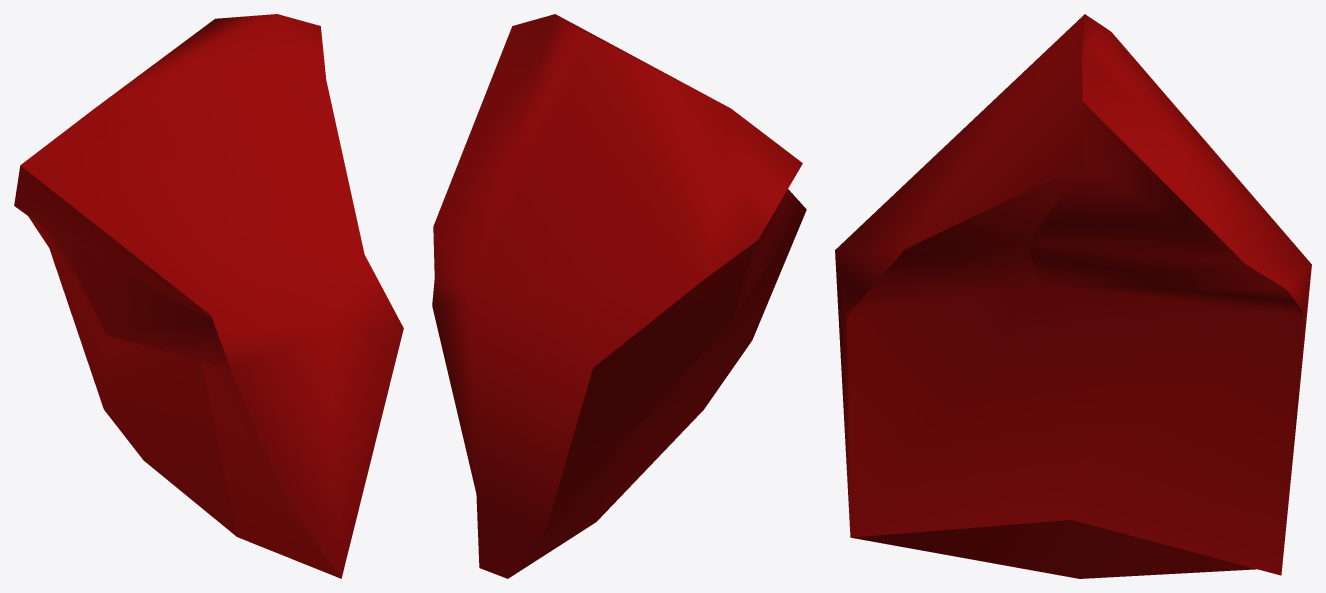
File: ArmorCrystalChunks_AmorCrystalChunk_Large_A.gltf
3 views of the same model, side by side, from view 1: azimuth 30°, elevation 25°; view 2: azimuth 150°, elevation 25°; view 3: azimuth 270°, elevation 25° (orthographic). The views are drawn at different scales.
Visible parts, largest first — view 1: ArmorCrystalChunks_AmorCrystalChunk_Large_A; view 2: ArmorCrystalChunks_AmorCrystalChunk_Large_A; view 3: ArmorCrystalChunks_AmorCrystalChunk_Large_A.
Part boxes in pixels (box(x1,y1,x2,y2)): ArmorCrystalChunks_AmorCrystalChunk_Large_A: box(14, 14, 403, 578); ArmorCrystalChunks_AmorCrystalChunk_Large_A: box(432, 14, 806, 578); ArmorCrystalChunks_AmorCrystalChunk_Large_A: box(835, 14, 1311, 578).
Size of the model in its own units: 0.1455 by 0.233 by 0.1842.
